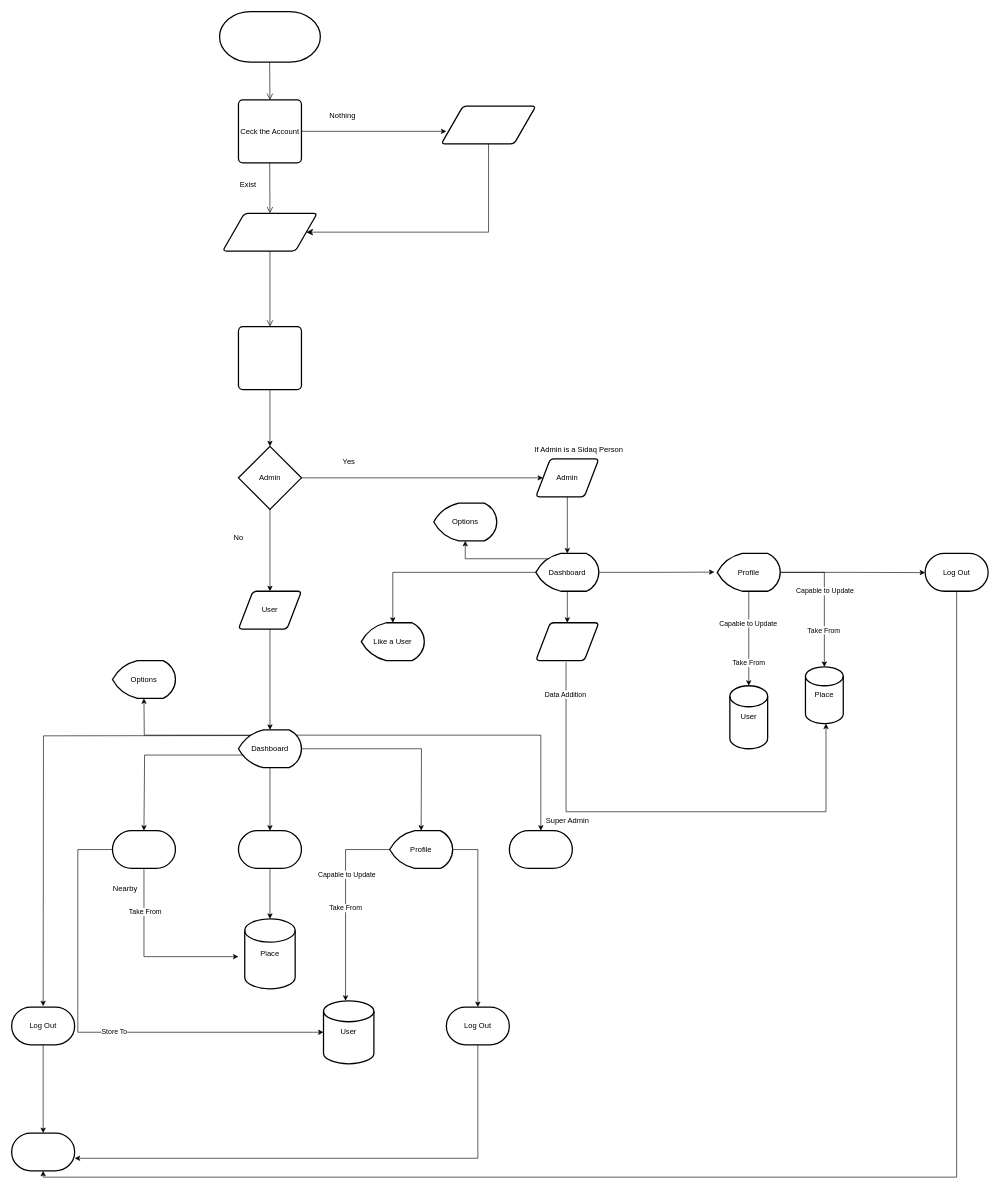
This 999x1193 diagram has some shape labels left out. Each missing label, with the box of its shape:
Add Place: (535, 622, 599, 661)
Advertising: (508, 830, 573, 869)
Ceck the Role: (238, 326, 302, 390)
Exit: (11, 1132, 75, 1171)
LOG IN: (222, 212, 318, 251)
Maps Navigation: (112, 830, 176, 869)
Regestration: (440, 105, 536, 144)
Searching: (238, 830, 302, 869)
START: (219, 11, 321, 62)
